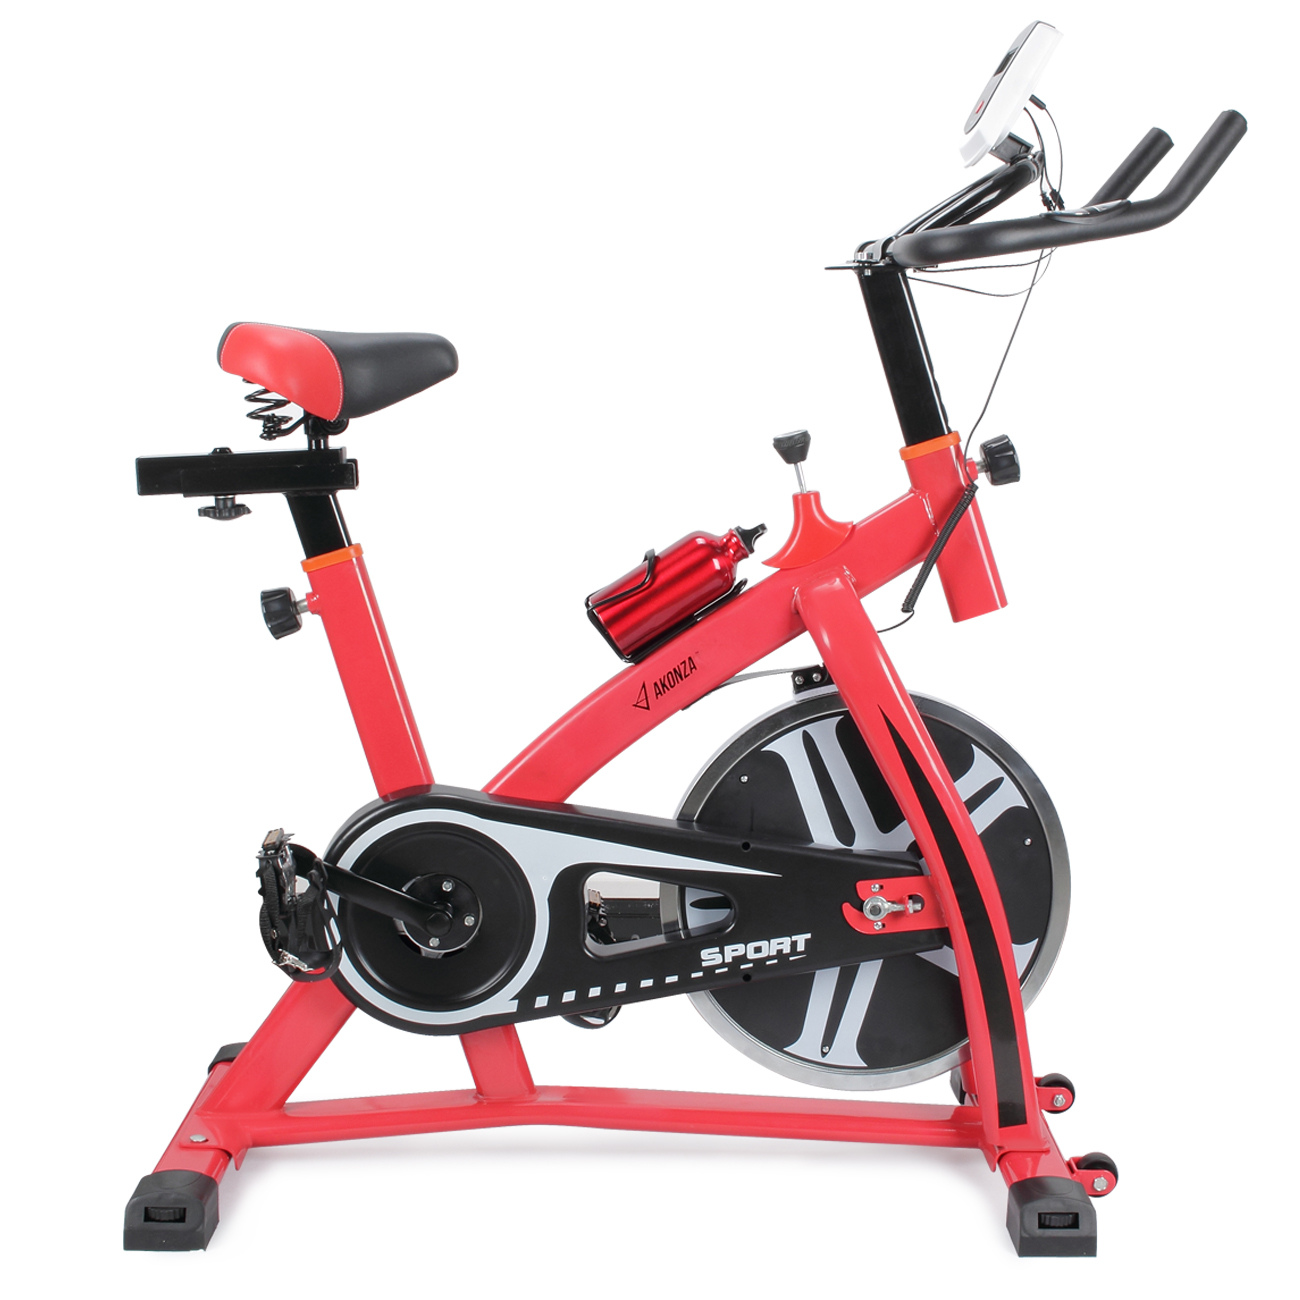gym_bike: (94, 45, 1245, 1261)
